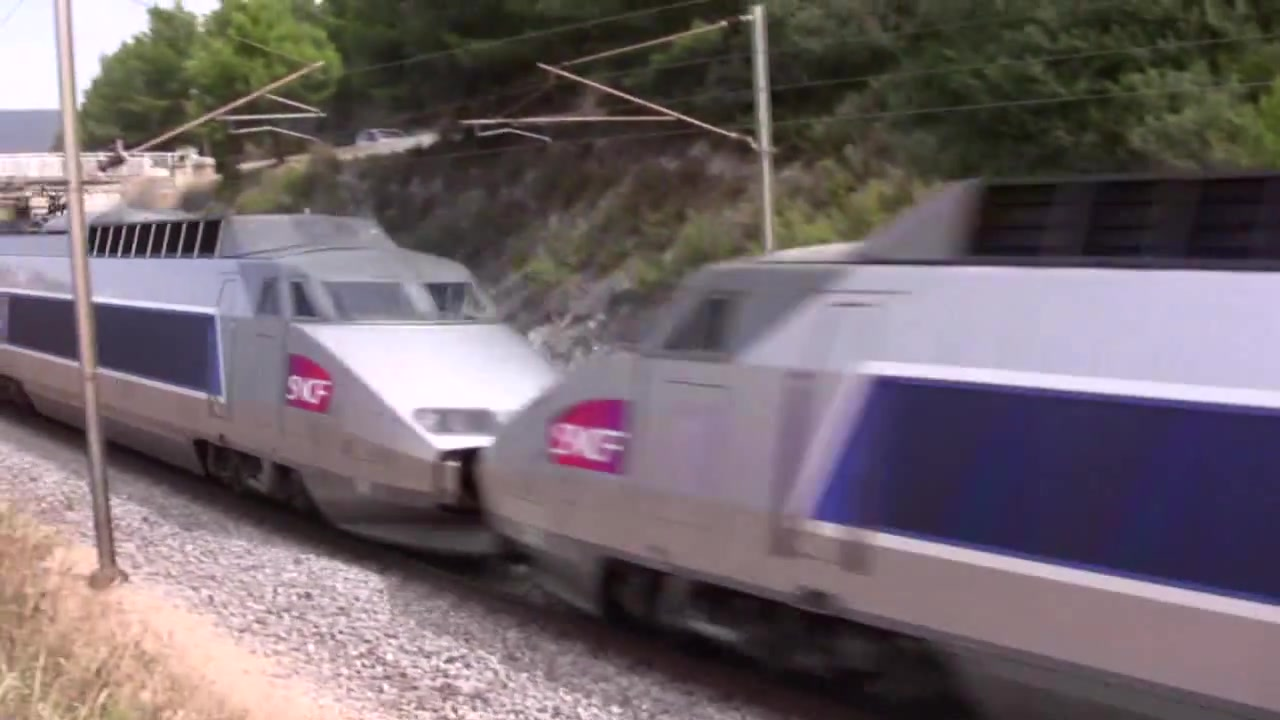train: (1, 170, 1280, 717)
